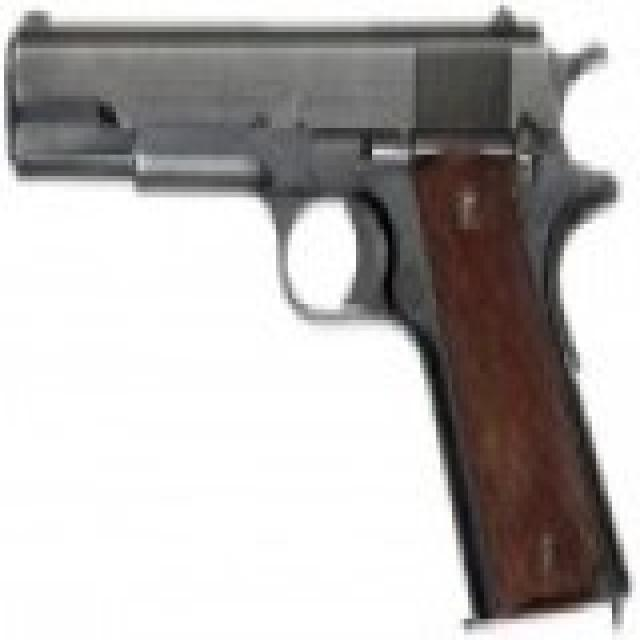gun: (0, 0, 628, 629)
